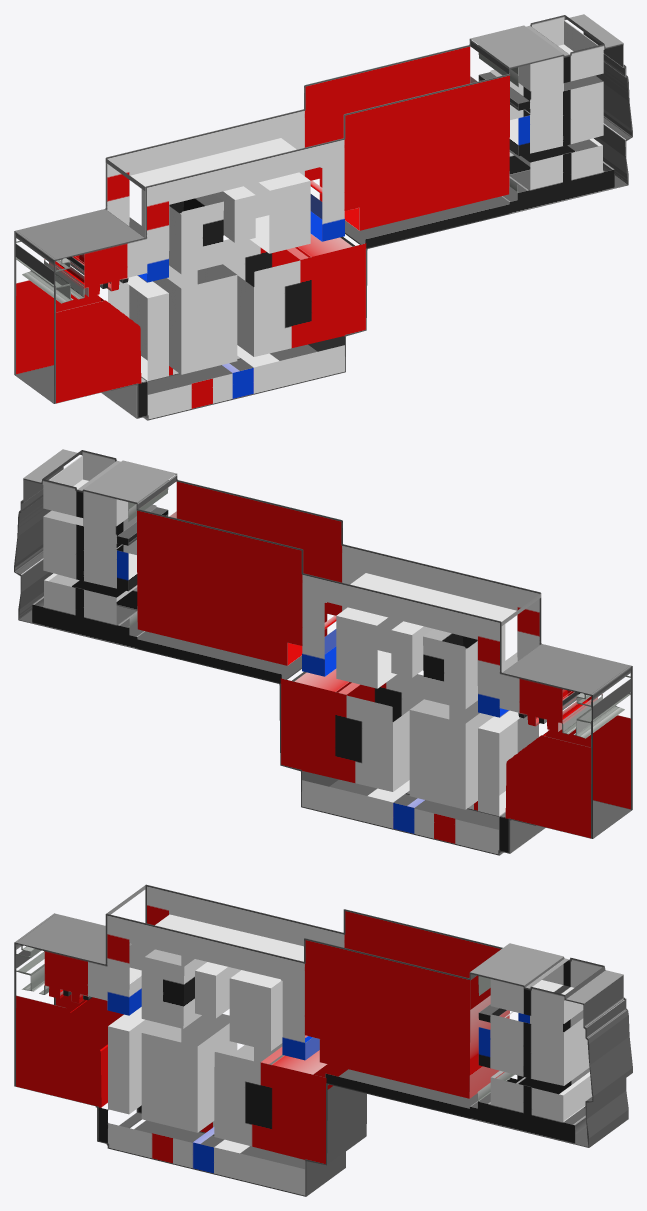
File: floor2.obj
3 renders of one model, top to bottom at view 1: azimuth 30°, elevation 25°; view 2: azimuth 150°, elevation 25°; view 3: azimuth 330°, elevation 25°, orthographic.
Parts seen in each view (by area): view 1: Object.1, Object.2, Object.3, Object.5, Object.6, Object.4; view 2: Object.1, Object.2, Object.3, Object.5, Object.6, Object.4; view 3: Object.1, Object.2, Object.3, Object.6, Object.5, Object.4.
Boxes of the visible parts, box(x1,y1,x2,y2) form: Object.1: box(14, 14, 632, 420); Object.2: box(153, 264, 237, 374); Object.3: box(478, 69, 603, 156); Object.5: box(244, 172, 310, 253); Object.6: box(141, 189, 223, 274); Object.4: box(213, 186, 255, 242); Object.1: box(14, 449, 632, 855); Object.2: box(409, 699, 493, 809); Object.3: box(43, 504, 168, 591); Object.5: box(336, 607, 402, 688); Object.6: box(423, 624, 505, 709); Object.4: box(391, 621, 433, 677); Object.1: box(14, 884, 632, 1196); Object.2: box(141, 1014, 237, 1132); Object.3: box(478, 1004, 601, 1085); Object.6: box(141, 949, 206, 1028); Object.5: box(229, 970, 282, 1050); Object.4: box(195, 962, 240, 1018).
Size of the model in its own units: 176 by 77.22 by 20.9.
